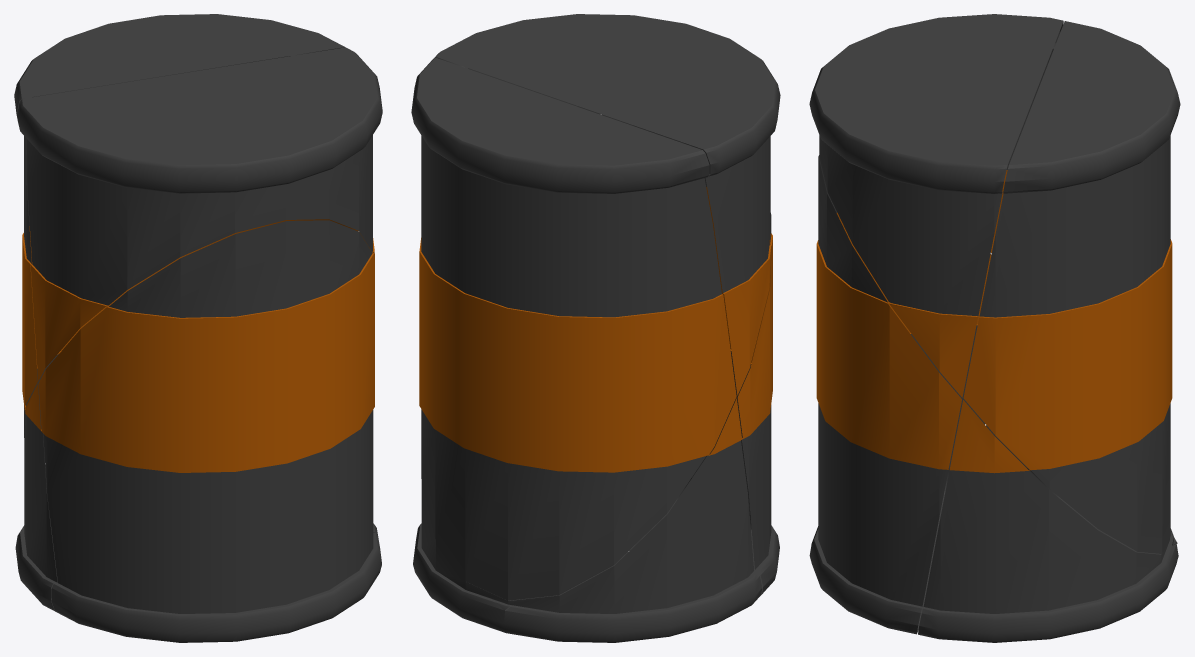
Rendered from Barrel4_with_top_broken.fbx.
3 renders of one model, left to right at view 1: azimuth 30°, elevation 25°; view 2: azimuth 150°, elevation 25°; view 3: azimuth 270°, elevation 25°, orthographic.
Parts seen in each view (by area): view 1: polySurface2, polySurface3, polySurface4, polySurface1; view 2: polySurface4, polySurface3, polySurface1, polySurface2; view 3: polySurface4, polySurface3, polySurface2, polySurface1.
Part boxes in pixels (<box>): polySurface2: <box>38,220,381,642</box>; polySurface3: <box>17,47,382,381</box>; polySurface4: <box>14,14,358,462</box>; polySurface1: <box>15,384,377,611</box>; polySurface4: <box>411,57,736,600</box>; polySurface3: <box>434,14,780,395</box>; polySurface1: <box>413,398,762,642</box>; polySurface2: <box>601,114,779,595</box>; polySurface4: <box>963,21,1180,553</box>; polySurface3: <box>809,14,1063,397</box>; polySurface2: <box>809,155,991,634</box>; polySurface1: <box>918,400,1178,642</box>.
Size of the model in its own units: 169 by 240 by 169.
